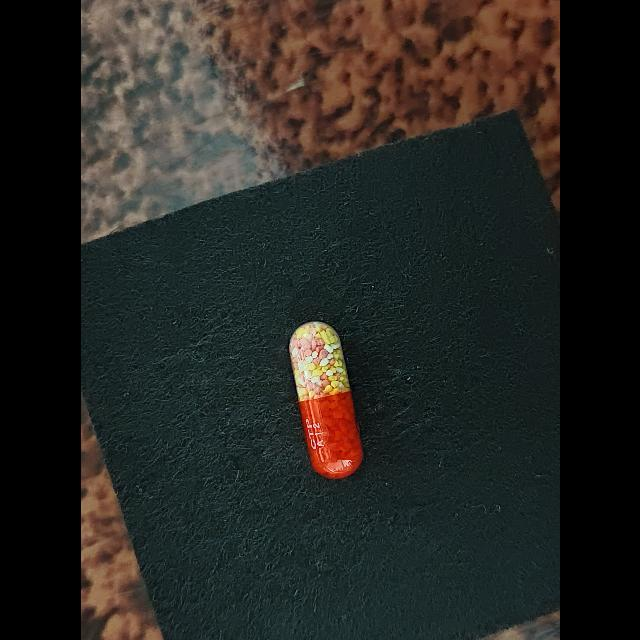Intact Capsule: (289, 321, 363, 479)
